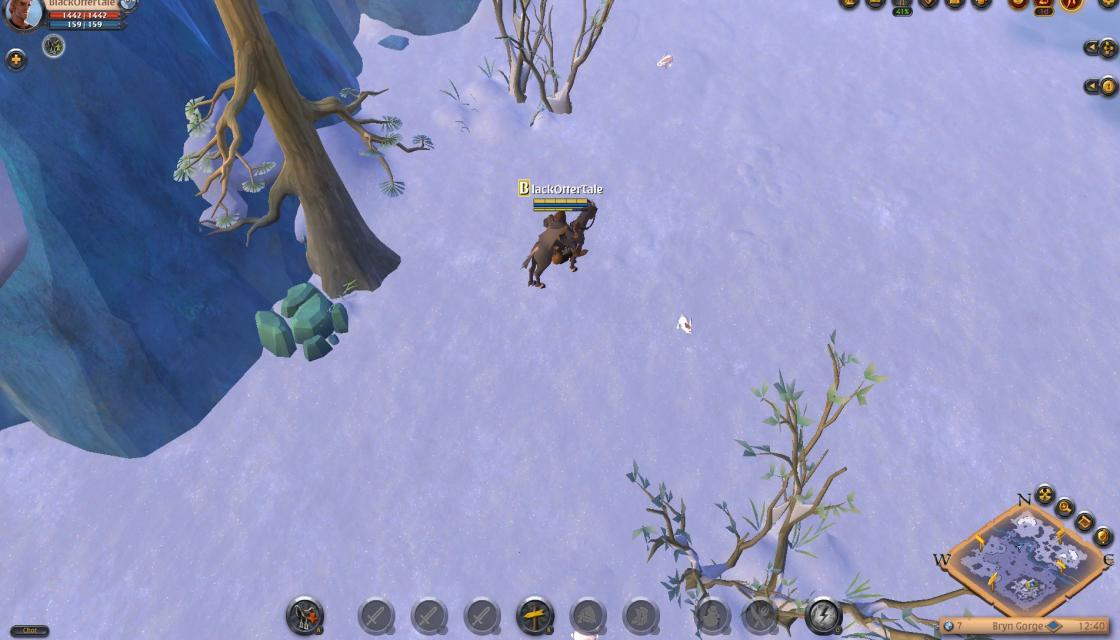sandstone: (251, 279, 353, 366)
